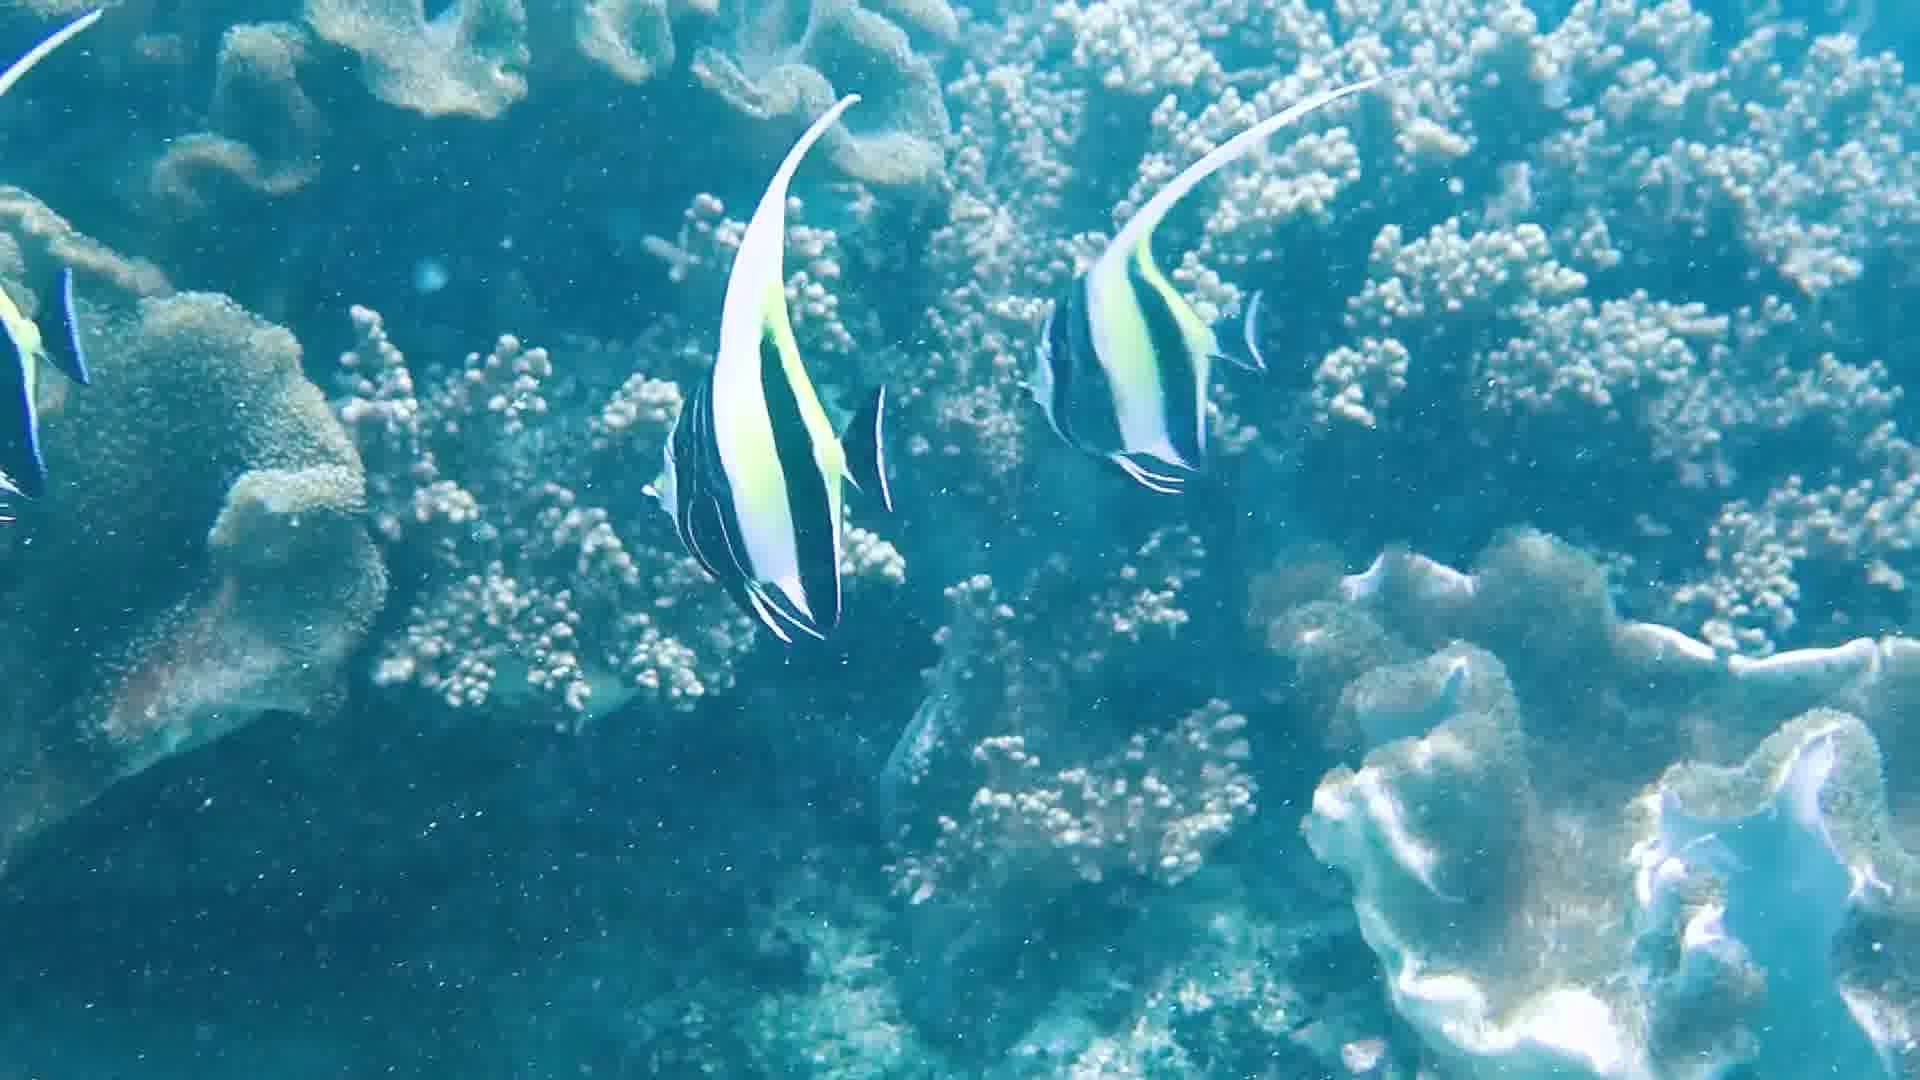Zanclus cornutus: (1010, 127, 1263, 524), (641, 237, 894, 634)
